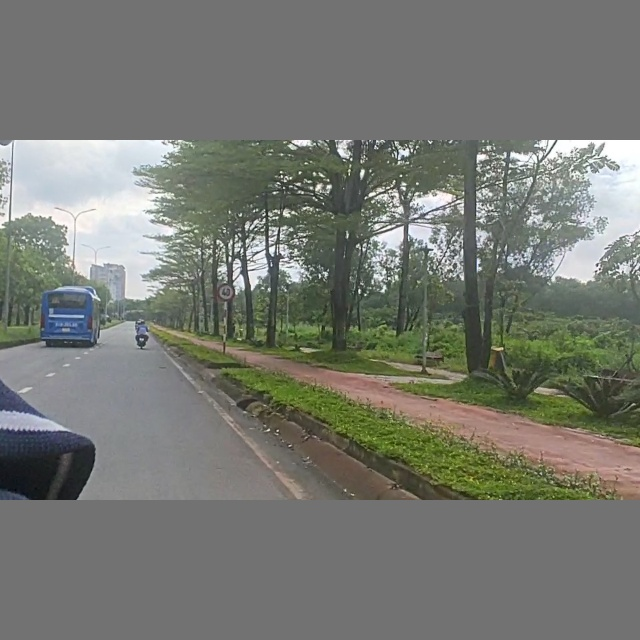P.127*40: (216, 282, 237, 301)
